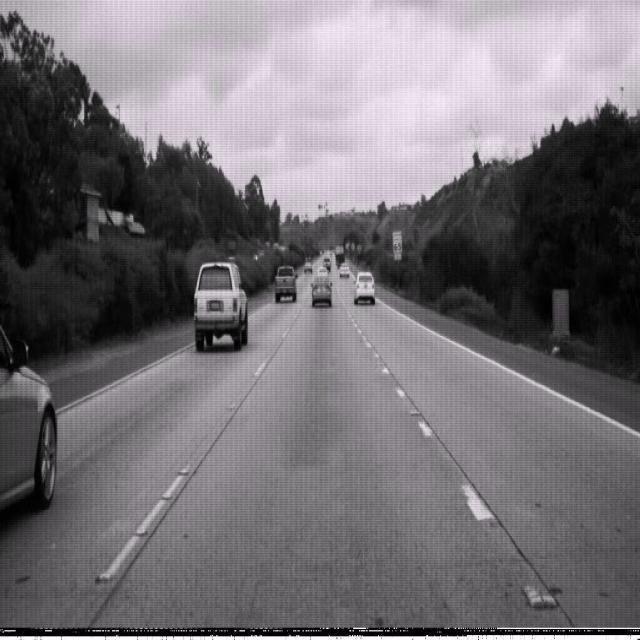speedLimit65: (392, 229, 402, 255)
